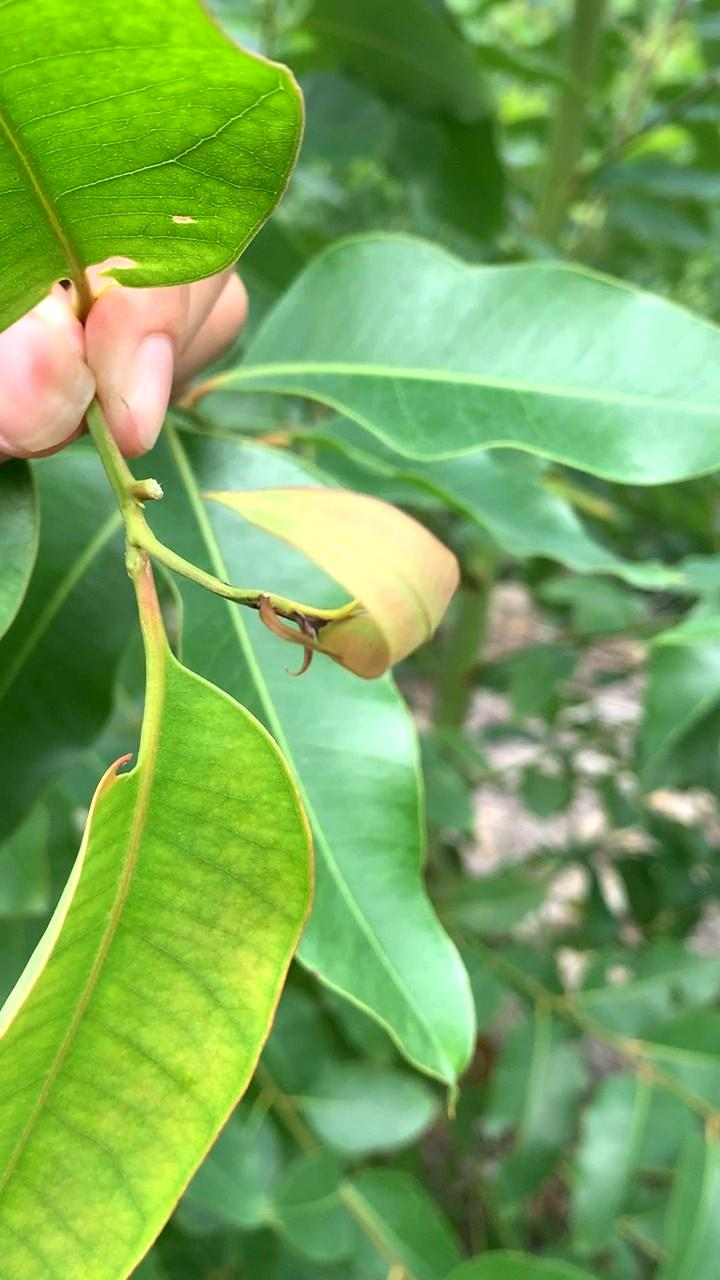Helopeltis-Withered Sprout: (193, 470, 467, 709)
